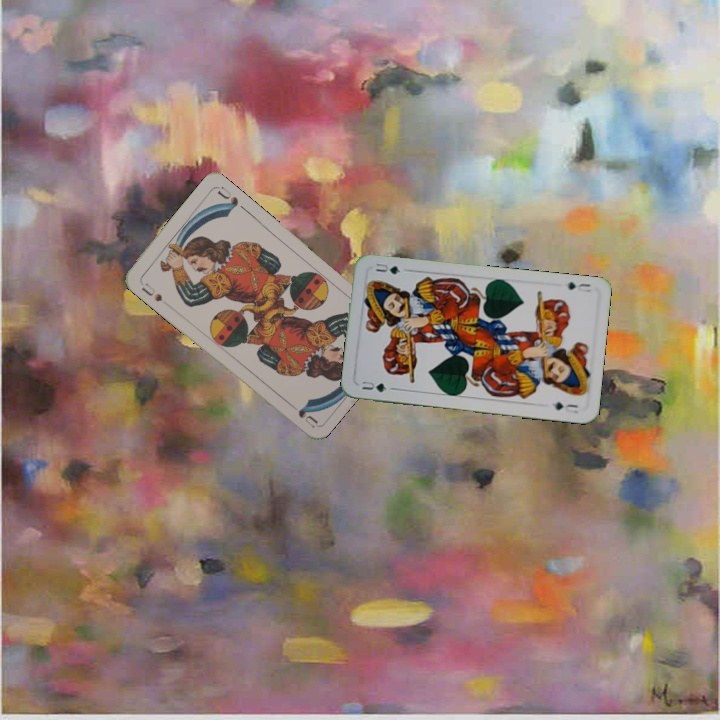GU: (358, 377, 389, 395), (563, 278, 594, 295)
SU: (136, 278, 165, 304)
